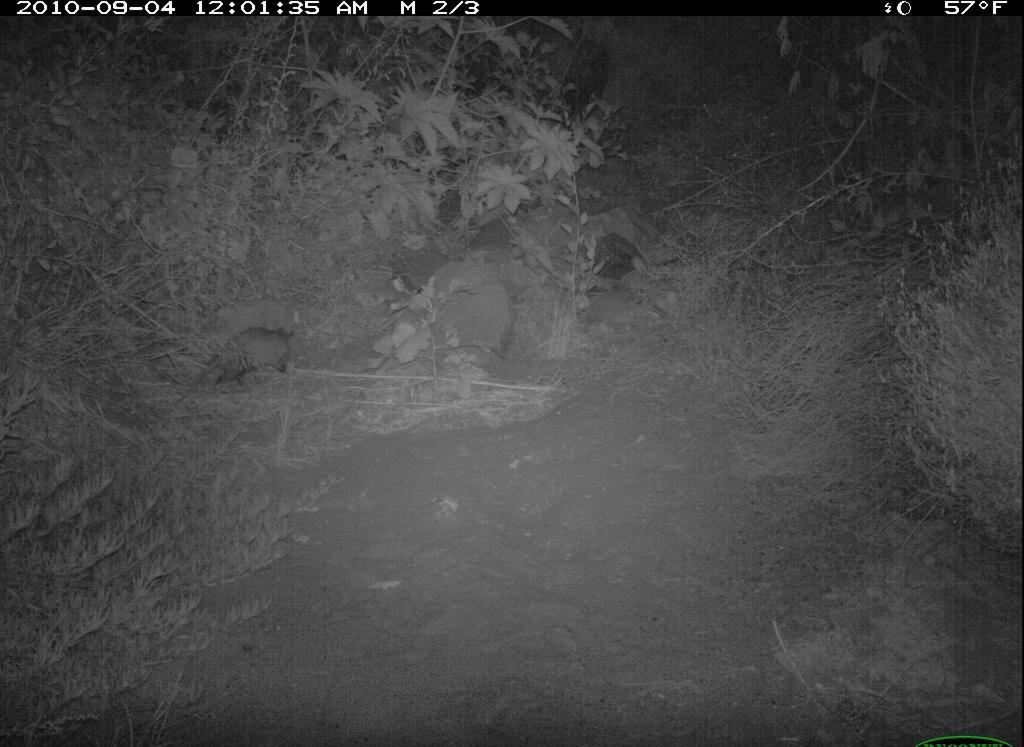opossum: (158, 321, 319, 410)
